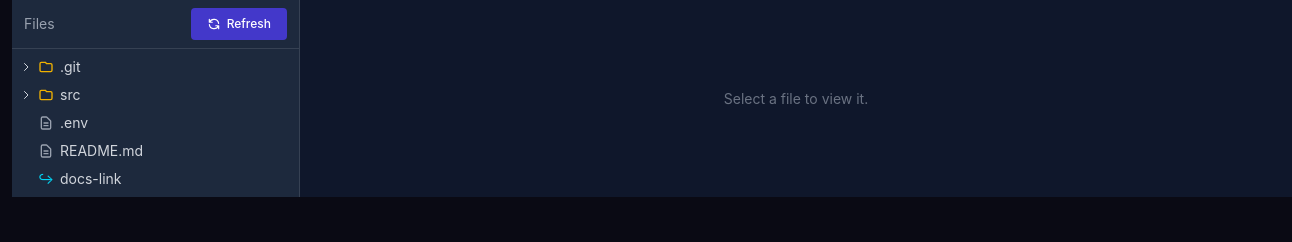
FileViewerWorkerView (desktop) › symlinks › expands a symlink to a directory in place without opening it as a file
Click the button with aria-label "docs-link (symlink)".
click(91, 178)  # box [12,165,299,193]
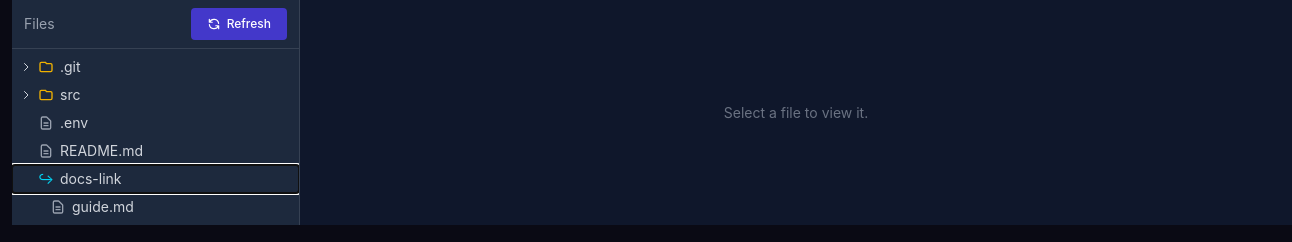
Expected: the button "guide.md" is shown, [12,193,299,221]
